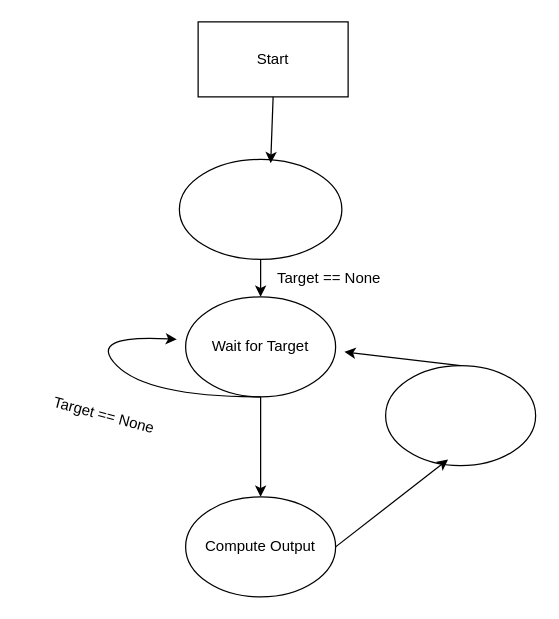
The diagram is 559 pixels wide and 619 high, and some of its shapes have lost their labels. Each missing label, with the centre of its shape:
"Init" belongs at point (260, 208).
"Output Duty Cycle" belongs at point (460, 415).
